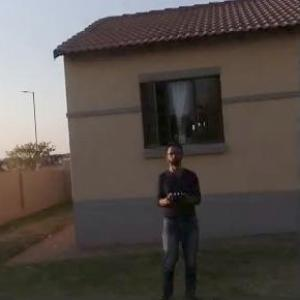follow: (147, 137, 207, 299)
